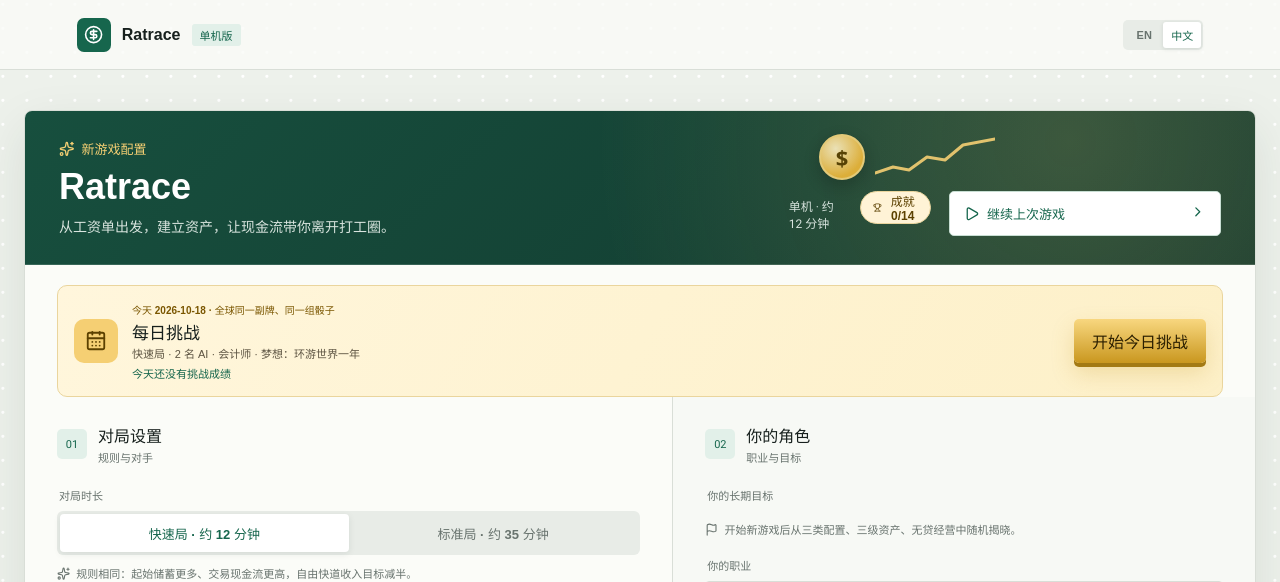
it: cashflow app › confirms financial review above the game surface
The image size is (1280, 582).
Step 1. Click the button "继续上次游戏" → (1026, 215), box left=948, top=191, right=1221, bottom=236
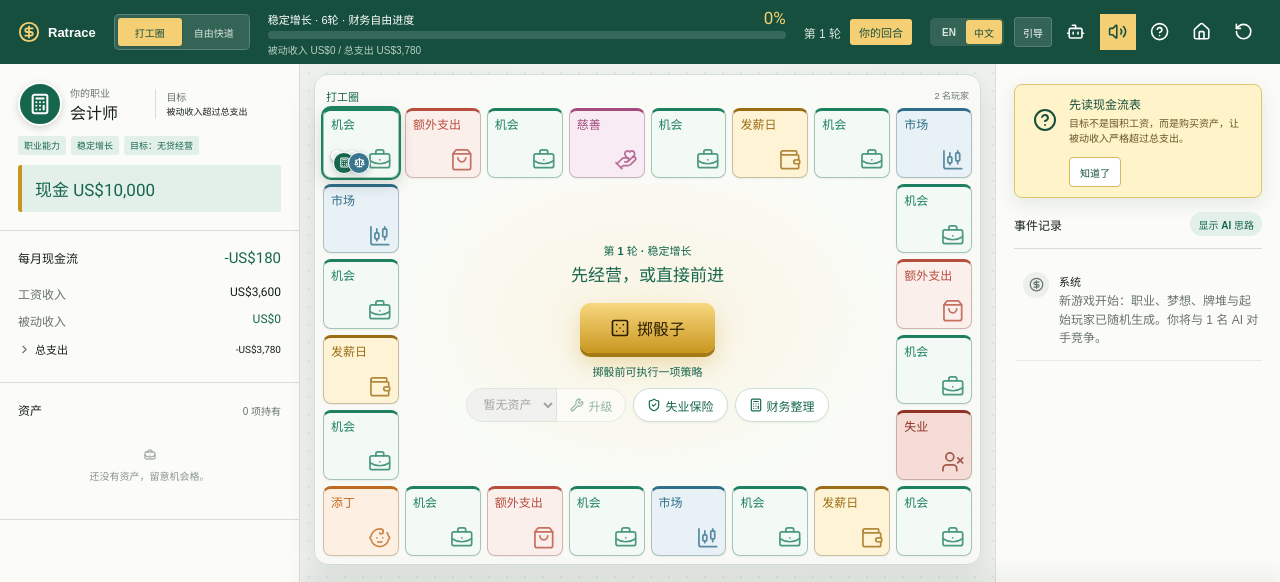
Step 2. Click the button "财务整理" → (782, 405), box left=734, top=388, right=828, bottom=422
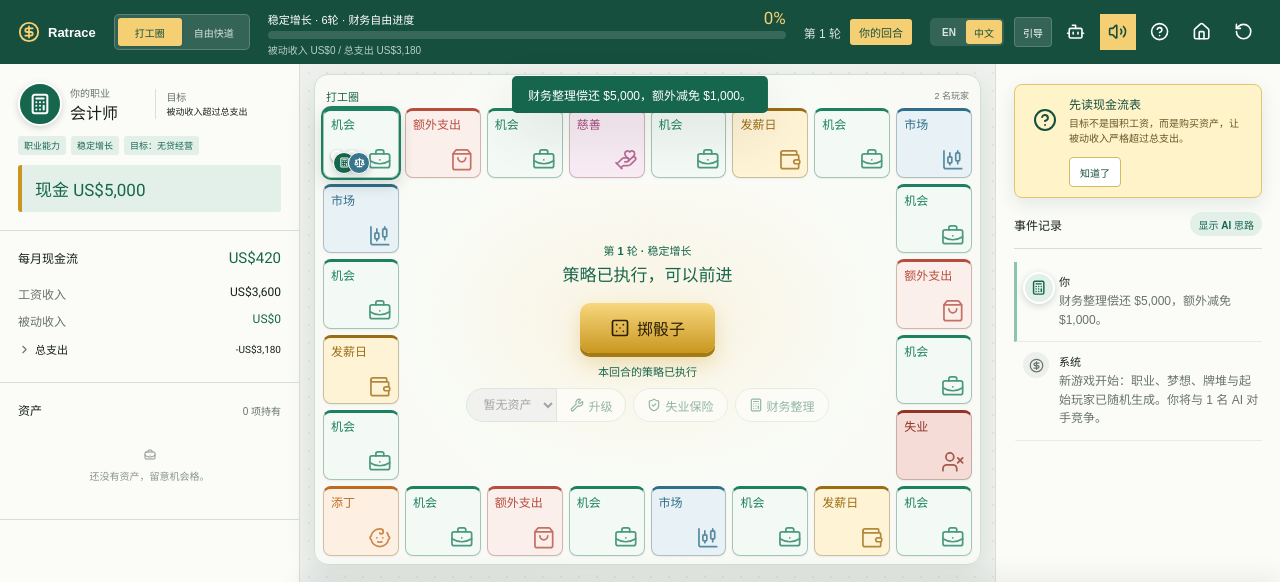
Check: the message reads "财务整理偿还 $5,000，额外减免 $1,000。", box left=528, top=89, right=752, bottom=103
